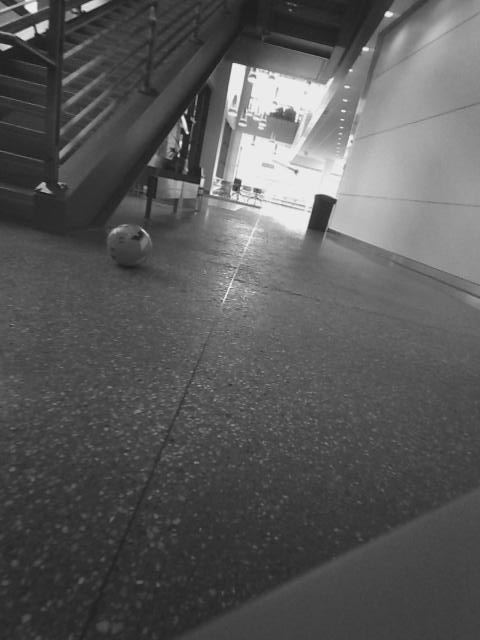ball: (105, 221, 156, 271)
